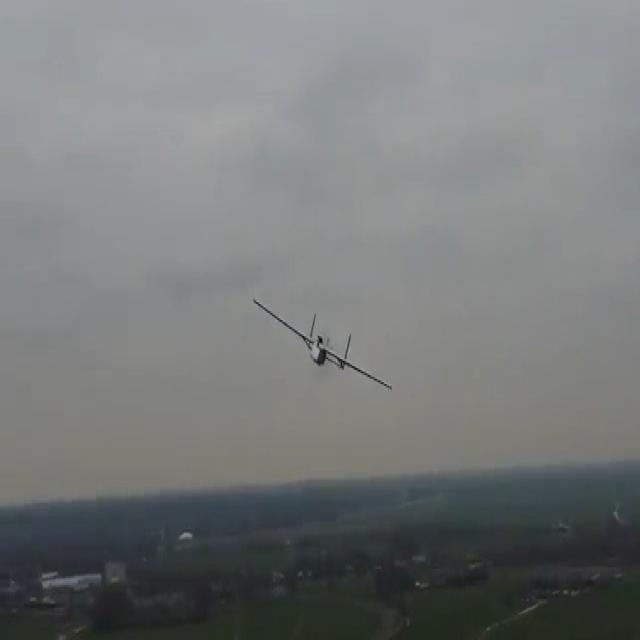iha: (252, 327, 396, 370)
